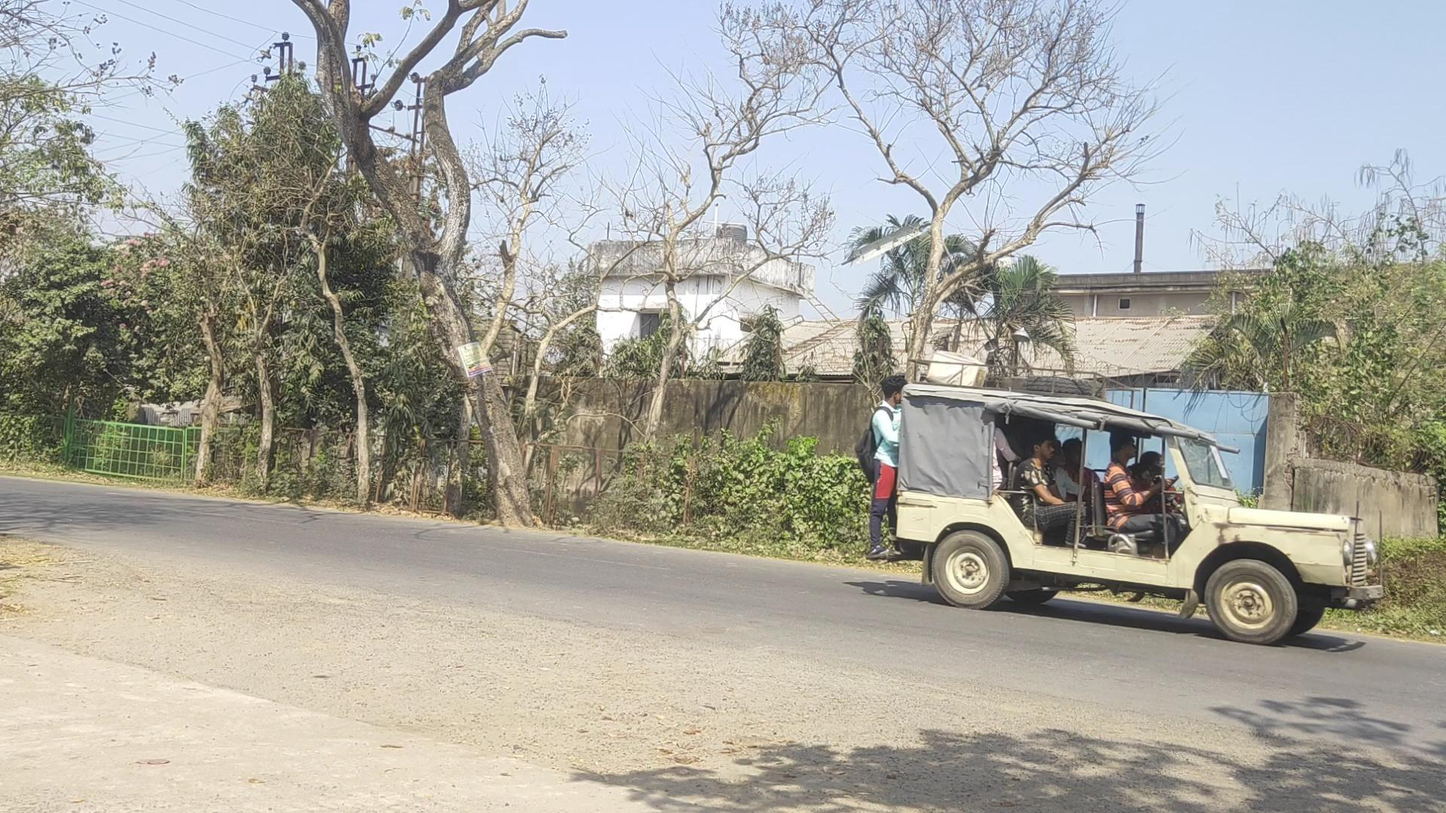car: (858, 352, 1383, 644)
